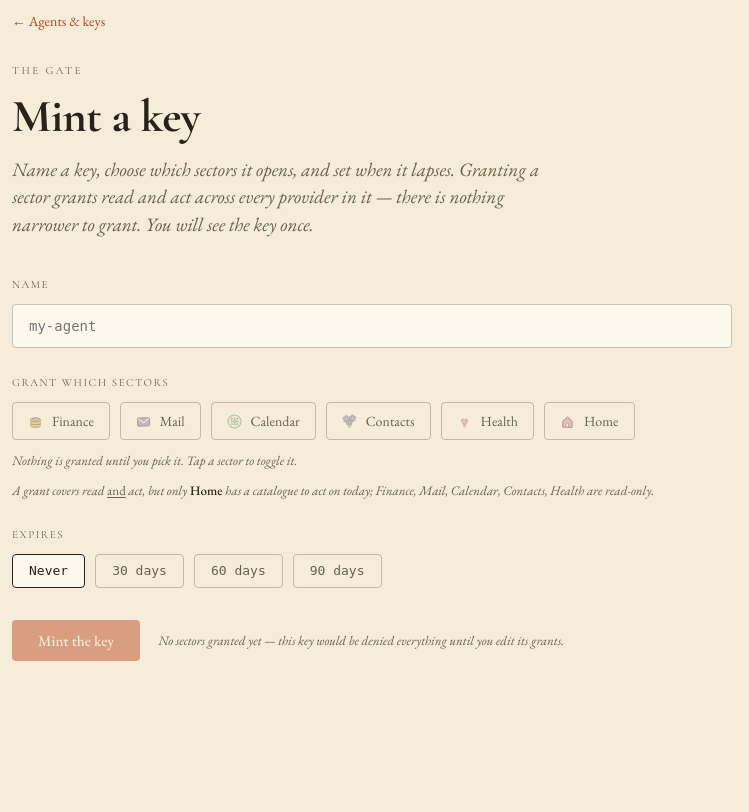
Test: the expiry default follows whether this gate is published (ADR 0035 §D3 item 6) › the reveal state hands over the address the gateway serves
Type "bot" into the field labelled "Name" at point(372, 326), box [12,304,732,348]
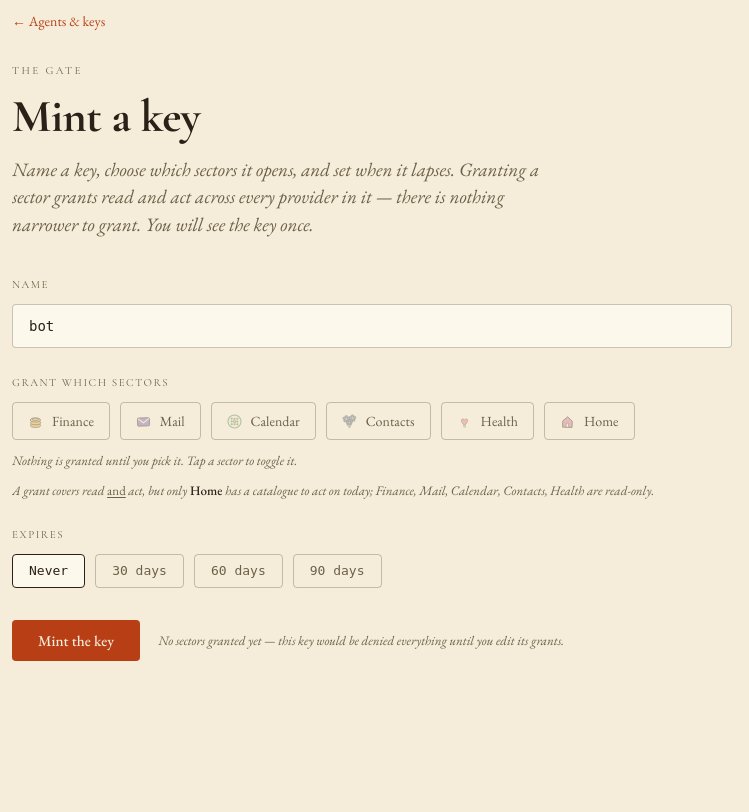
Click the button "Mint the key" at point(76, 641), box [12,620,140,661]
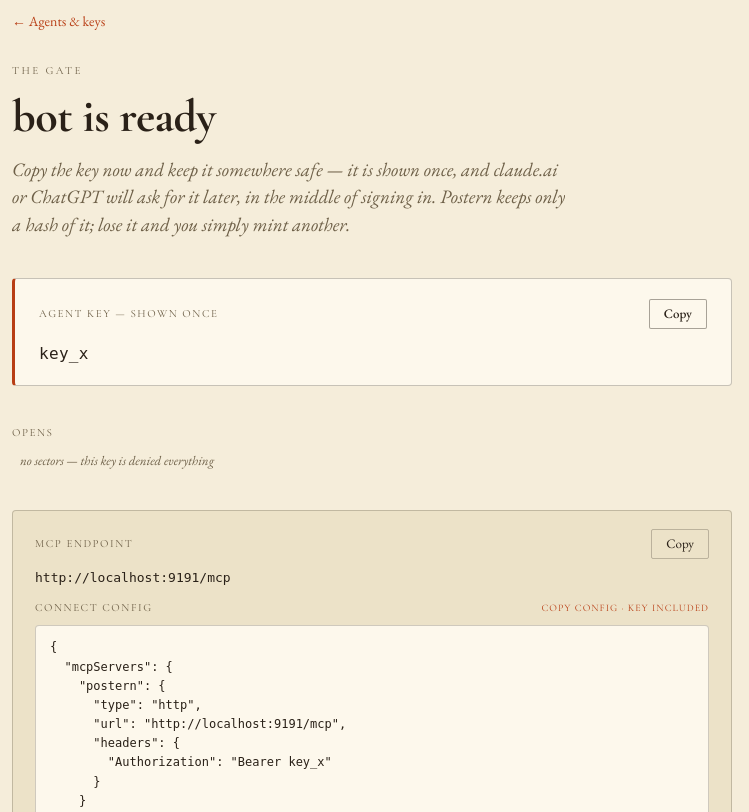
Result: the text "key_x" is shown at [39,344,89,363]
Result: the text "http://localhost:9191/mcp" is shown at [35,570,231,585]
